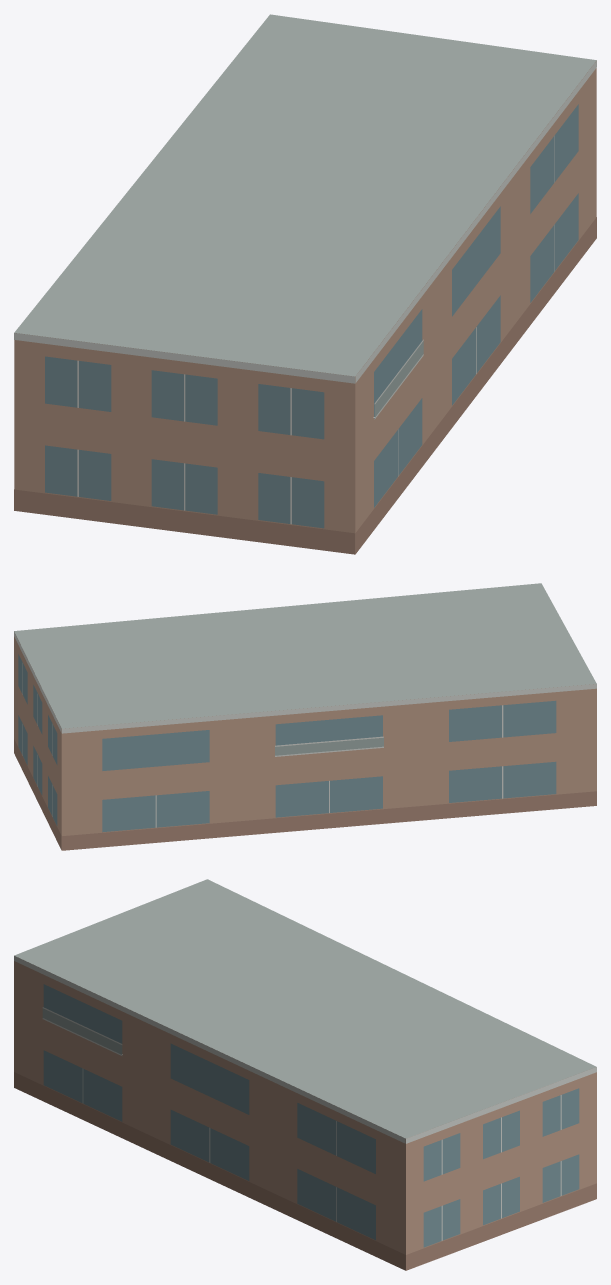
The model's file is survey-upis-32693207.glb.
The picture shows the model from 3 angles, top to bottom: view 1: azimuth 30°, elevation 25°; view 2: azimuth 150°, elevation 25°; view 3: azimuth 270°, elevation 25°; orthographic projection. The views are drawn at different scales.
Parts seen in each view (by area): view 1: survey-upis-32693207.tmp; view 2: survey-upis-32693207.tmp; view 3: survey-upis-32693207.tmp.
Boxes of the visible parts, x1=… form: survey-upis-32693207.tmp: x1=14, y1=14, x2=596, y2=554; survey-upis-32693207.tmp: x1=14, y1=583, x2=596, y2=850; survey-upis-32693207.tmp: x1=14, y1=879, x2=596, y2=1270.
Size of the model in its own units: 25.7 by 6.1 by 24.39.
